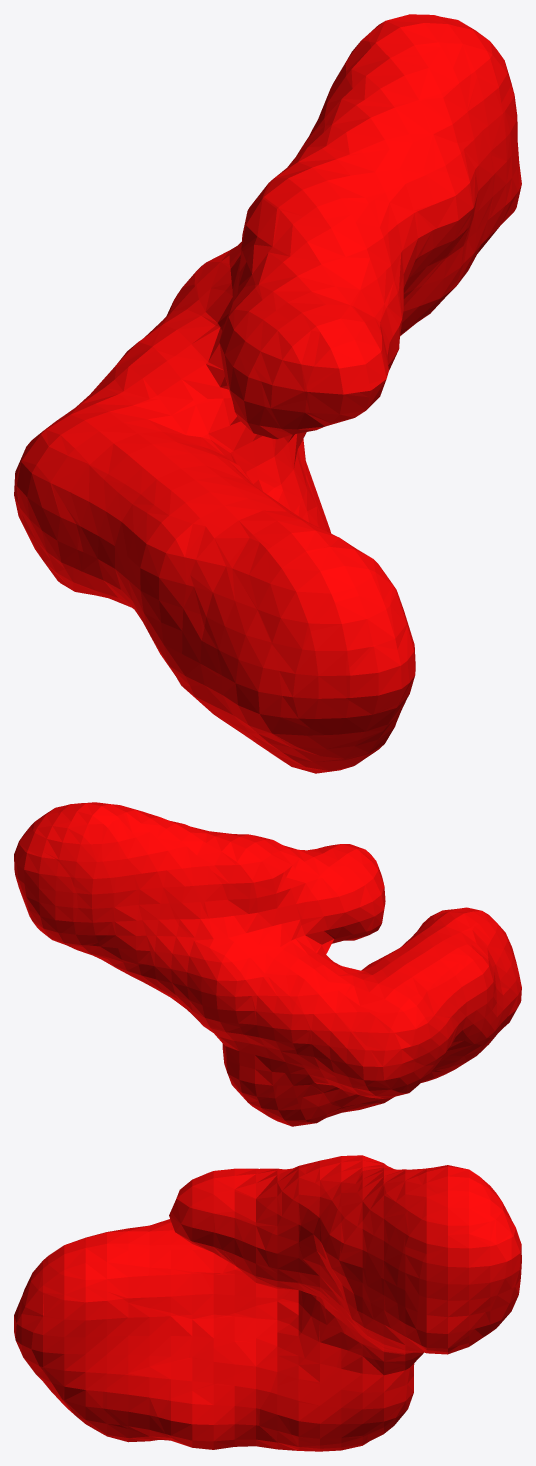
The model's file is fliS_coarse.dae.
3 renders of one model, top to bottom at view 1: azimuth 30°, elevation 25°; view 2: azimuth 150°, elevation 25°; view 3: azimuth 270°, elevation 25°, orthographic. The views are drawn at different scales.
Parts seen in each view (by area): view 1: fliS; view 2: fliS; view 3: fliS.
Boxes of the visible parts, box(x1,y1,x2,y2) form: fliS: box(14, 14, 521, 773); fliS: box(14, 802, 521, 1126); fliS: box(14, 1155, 521, 1451).
Bounding box in the file's own units: 50.45 × 43.88 × 53.71.
